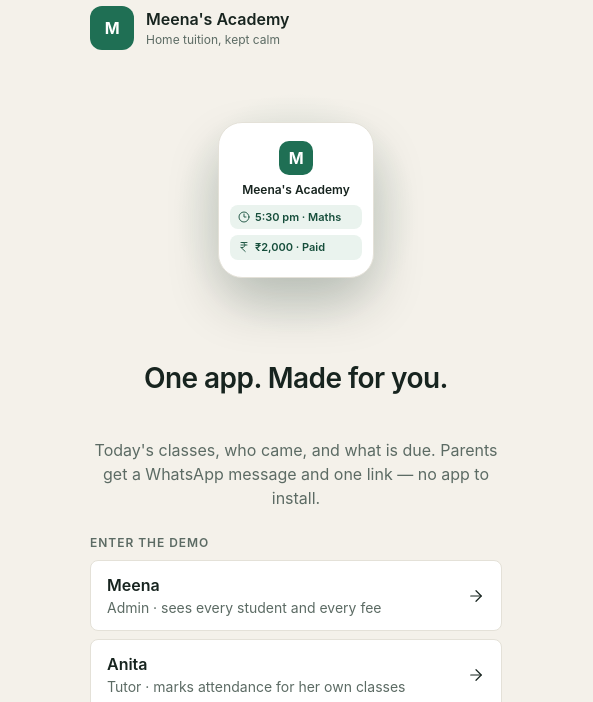
Scenario: person profiles › opens a parent profile with children, fees and upcoming classes
The width and height of the screenshot is (593, 702).
Click the button "Meena Admin · sees every student and every fee": (133, 585) [90, 560, 502, 631]
(page scrolled)
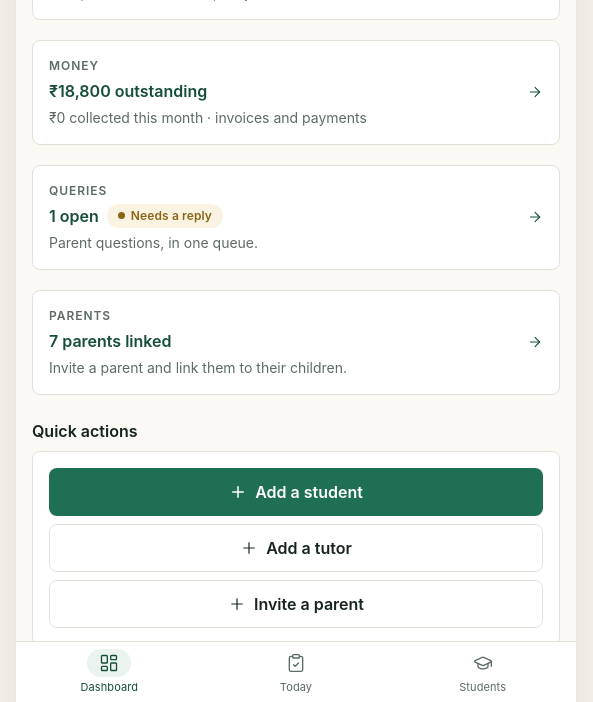
Click the link "Parents": (80, 315) [32, 290, 560, 395]
(page scrolled)
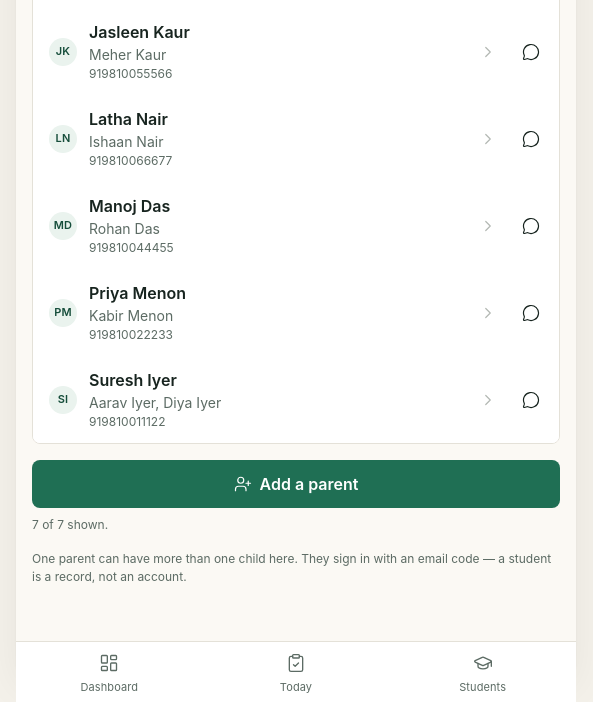
Click the link with aria-label "Open Suresh Iyer's profile": (133, 380) [49, 368, 497, 431]
(page scrolled)
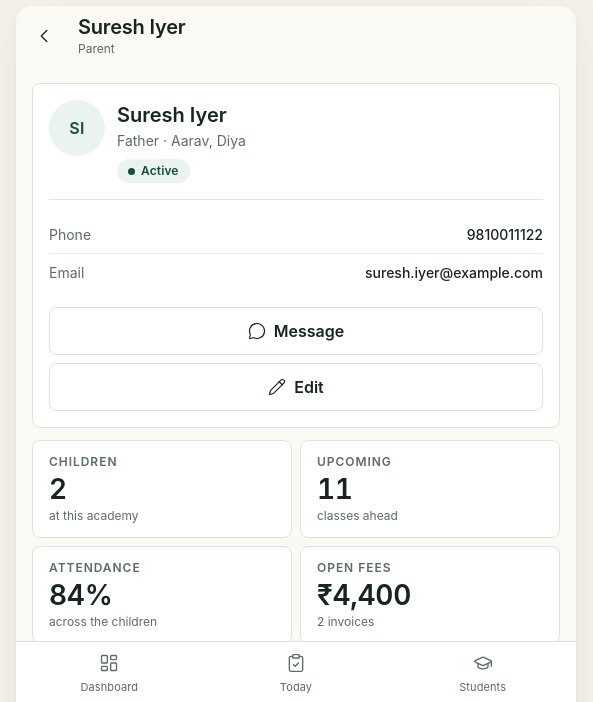
Expected: the heading "Children" is shown, [32, 670, 97, 690]
Result: the text "Open fees" is shown at [317, 560, 391, 575]
Result: the button "Edit" is shown at [49, 363, 543, 411]
